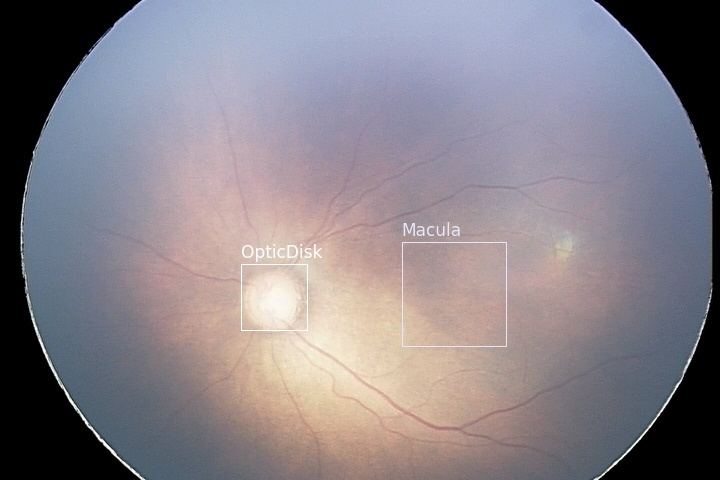Macula: (401, 241, 505, 345)
OpticDisk: (240, 263, 306, 329)
